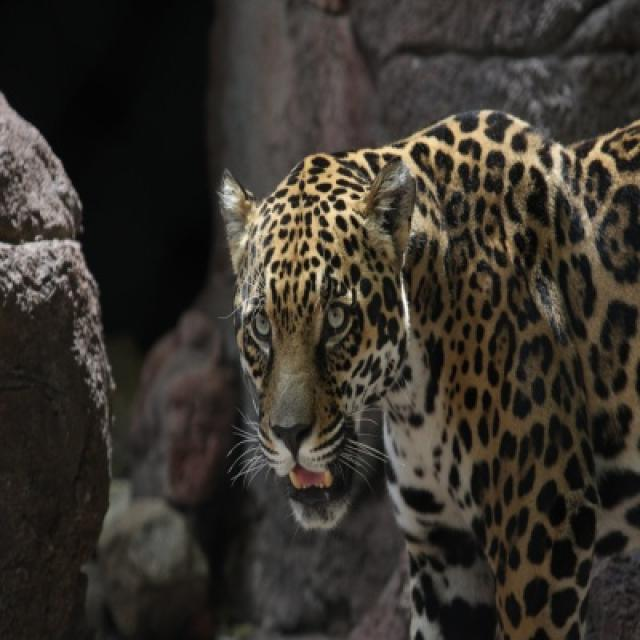Jaguar: (221, 110, 638, 638)
